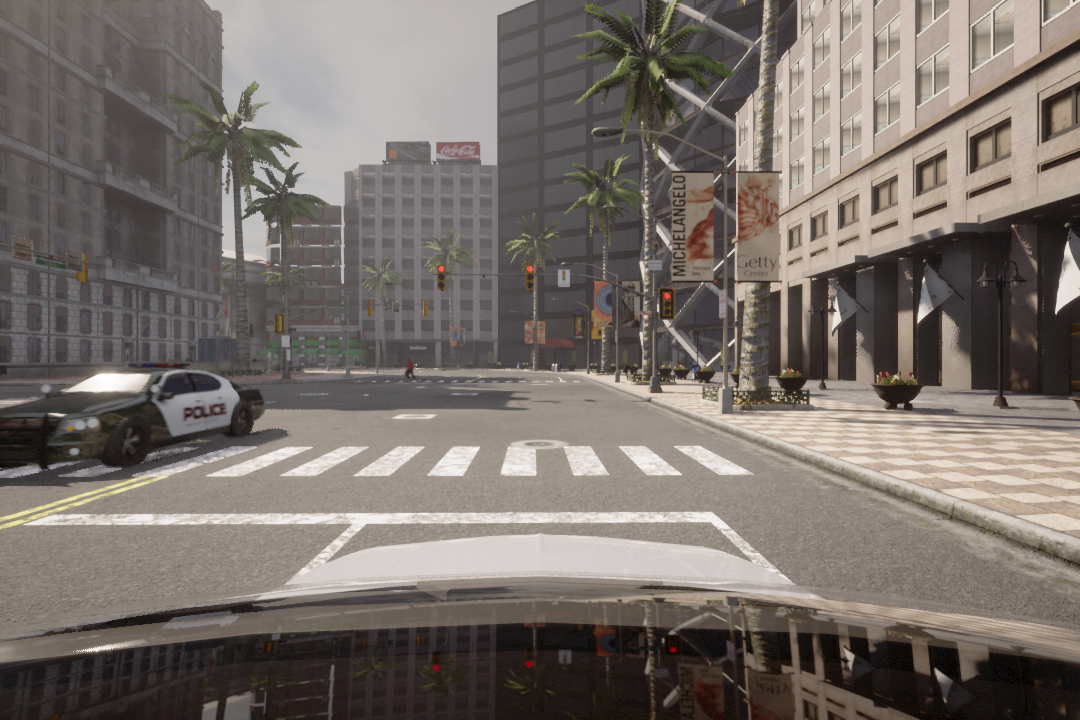TrafficLight: (433, 262, 448, 292), (660, 290, 674, 319), (525, 264, 537, 292)
walkside: (1, 436, 762, 486)
